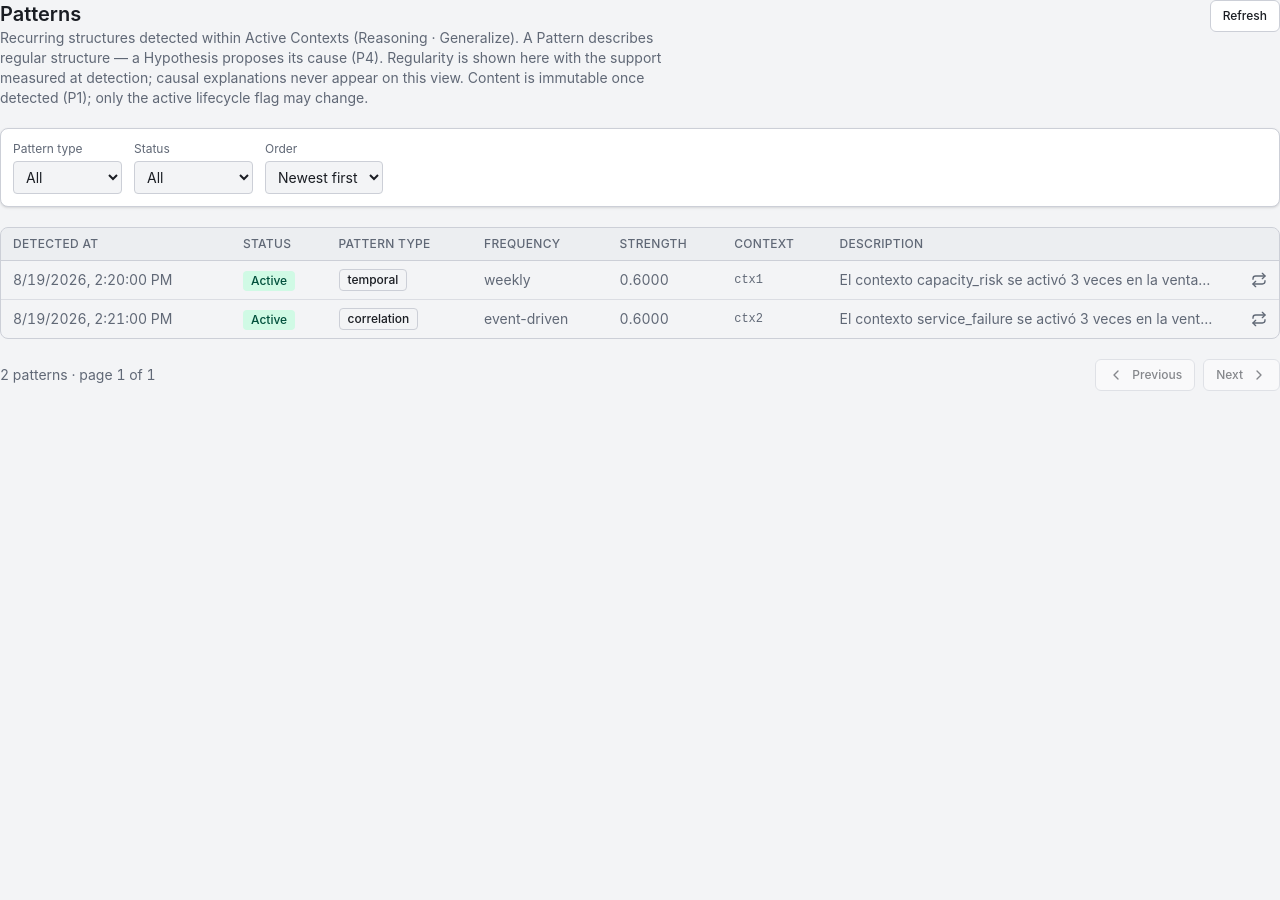
Test: PatternsPage › opens the detail drawer with the source context
Click the text "temporal".
click(373, 280)  # box [338, 269, 407, 291]
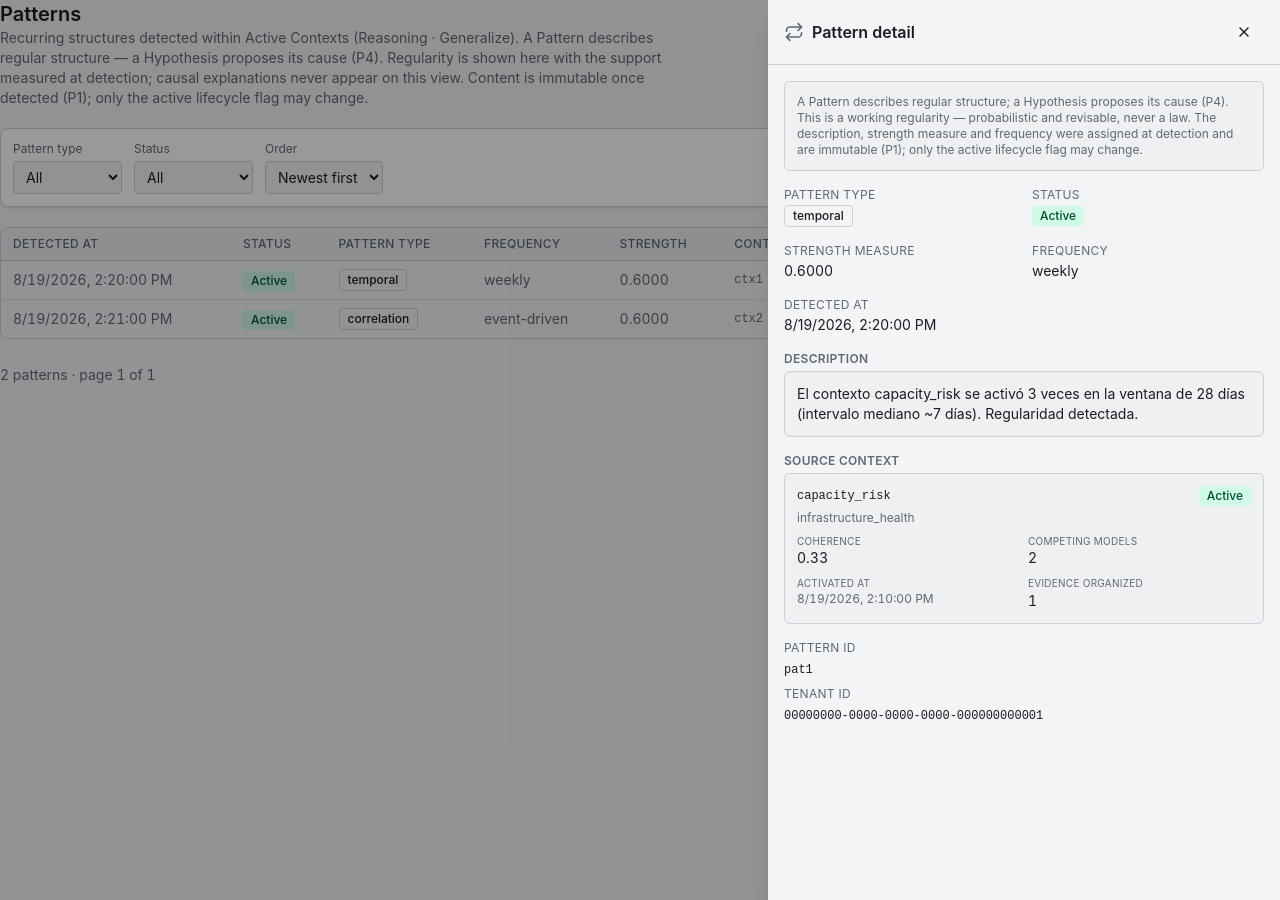
Result: the heading "Source context" is shown at [784, 453, 900, 468]
Result: the text "capacity_risk" is shown at [797, 488, 891, 504]
Result: the text "infrastructure_health" is shown at [797, 510, 915, 525]
